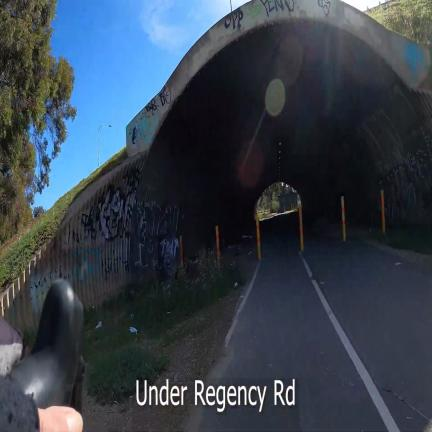Bike_Lane: (187, 214, 432, 432)
